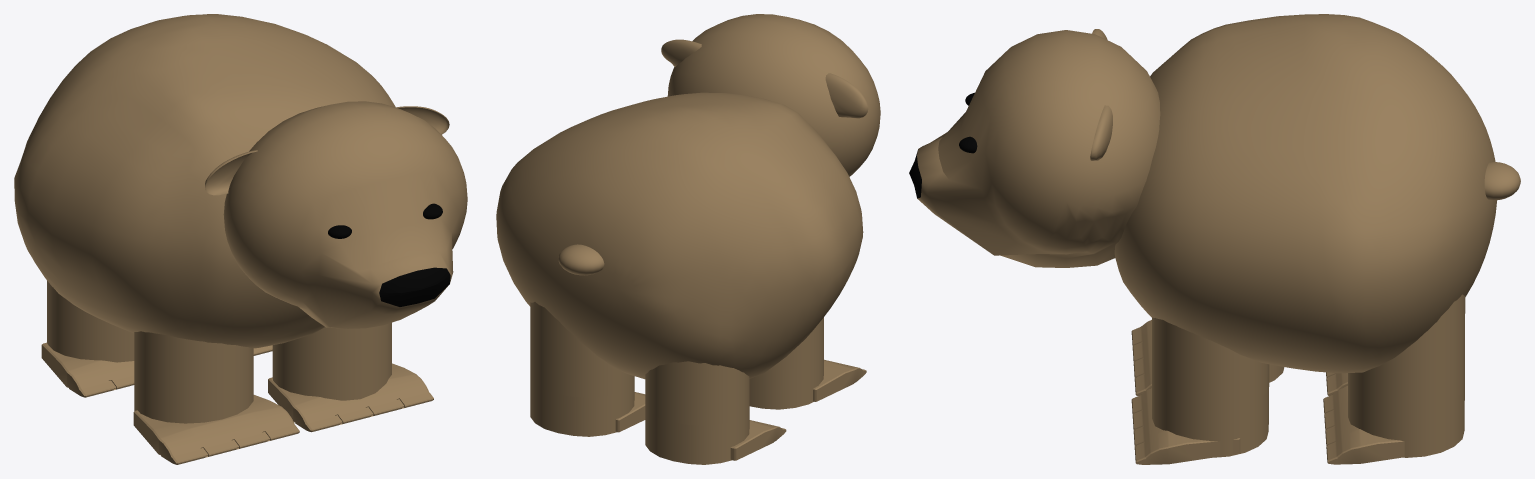
The model's file is Bear.fbx.
3 views of the same model, side by side, from view 1: azimuth 30°, elevation 25°; view 2: azimuth 150°, elevation 25°; view 3: azimuth 270°, elevation 25° (orthographic). The views are drawn at different scales.
Parts seen in each view (by area): view 1: MayaMidterm:pSphere1, MayaMidterm:pSphere2, pCylinder3, pCylinder2, pCube2, MayaMidterm:pCube2, pCylinder1, pCube3, MayaMidterm:pSphere3, MayaMidterm:pSphere4; view 2: MayaMidterm:pSphere1, MayaMidterm:pSphere2, pCylinder1, MayaMidterm:pCylinder1, pCylinder3, MayaMidterm:pSphere3, pCube2, MayaMidterm:pSphere9, pCube3, MayaMidterm:pSphere4, pCube4; view 3: MayaMidterm:pSphere1, MayaMidterm:pSphere2, pCylinder2, MayaMidterm:pCylinder1, MayaMidterm:pCube2, pCube4, pCube2, MayaMidterm:pSphere9, MayaMidterm:pSphere4.
Boxes of the visible parts, box(x1,y1,x2,y2) form: MayaMidterm:pSphere1: box(14, 14, 395, 348); MayaMidterm:pSphere2: box(223, 101, 467, 328); pCylinder3: box(134, 331, 253, 423); pCylinder2: box(272, 322, 391, 400); pCube2: box(133, 395, 299, 464); MayaMidterm:pCube2: box(268, 363, 433, 432); pCylinder1: box(47, 281, 134, 362); pCube3: box(41, 342, 134, 397); MayaMidterm:pSphere3: box(205, 150, 257, 195); MayaMidterm:pSphere4: box(396, 106, 449, 134); MayaMidterm:pSphere1: box(496, 92, 863, 379); MayaMidterm:pSphere2: box(667, 14, 880, 176); pCylinder1: box(645, 361, 749, 464); MayaMidterm:pCylinder1: box(530, 302, 634, 436); pCylinder3: box(749, 317, 823, 409); MayaMidterm:pSphere3: box(825, 73, 868, 118); pCube2: box(813, 359, 866, 401); MayaMidterm:pSphere9: box(558, 244, 604, 275); pCube3: box(730, 420, 786, 460); MayaMidterm:pSphere4: box(661, 39, 701, 66); pCube4: box(615, 392, 645, 432); MayaMidterm:pSphere1: box(1114, 14, 1496, 373); MayaMidterm:pSphere2: box(909, 30, 1160, 267); pCylinder2: box(1152, 317, 1269, 457); MayaMidterm:pCylinder1: box(1348, 294, 1465, 457); MayaMidterm:pCube2: box(1131, 388, 1240, 464); pCube4: box(1323, 385, 1404, 464); pCube2: box(1131, 320, 1151, 395); MayaMidterm:pSphere9: box(1484, 162, 1520, 200); MayaMidterm:pSphere4: box(1090, 105, 1112, 160).
Bounding box in the file's own units: 527 × 464 × 717.
